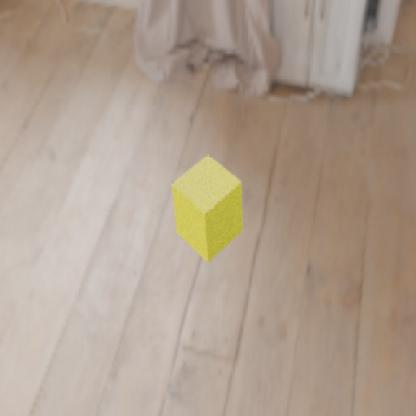cube: (170, 154, 243, 264)
